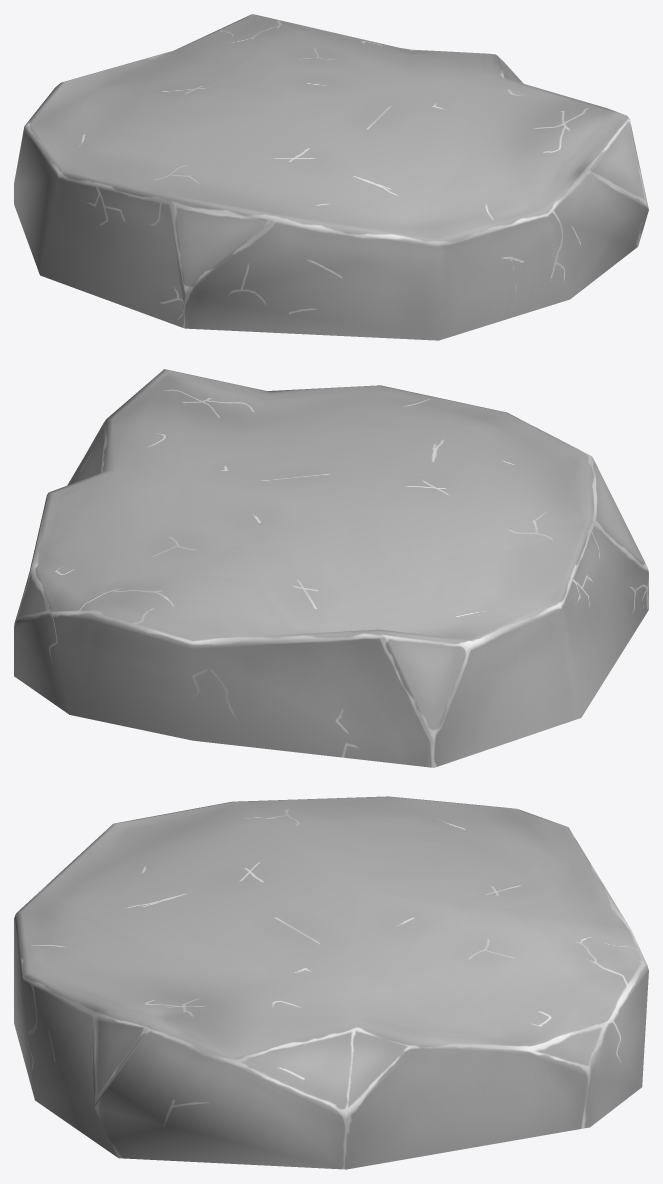
Rendered from Ice Rock.FBX.
3 views of the same model, one above another, from view 1: azimuth 30°, elevation 25°; view 2: azimuth 150°, elevation 25°; view 3: azimuth 270°, elevation 25° (orthographic). The views are drawn at different scales.
Visible parts, largest first — view 1: Ice Rock; view 2: Ice Rock; view 3: Ice Rock.
Boxes of the visible parts, bbox=[...] form: Ice Rock: bbox=[14, 14, 648, 340]; Ice Rock: bbox=[14, 369, 648, 767]; Ice Rock: bbox=[14, 796, 648, 1169].
Bounding box in the file's own units: 21.18 × 4.96 × 20.69.
Materials: 1 (1 with a texture image).
